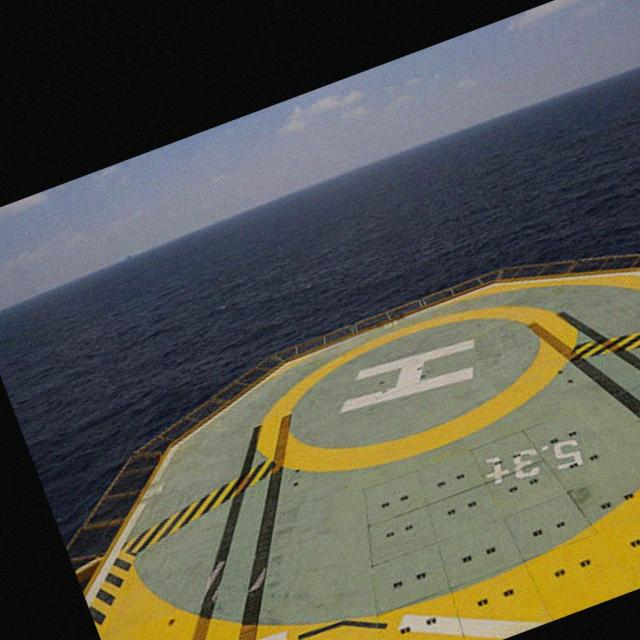helipad: (245, 300, 581, 478)
